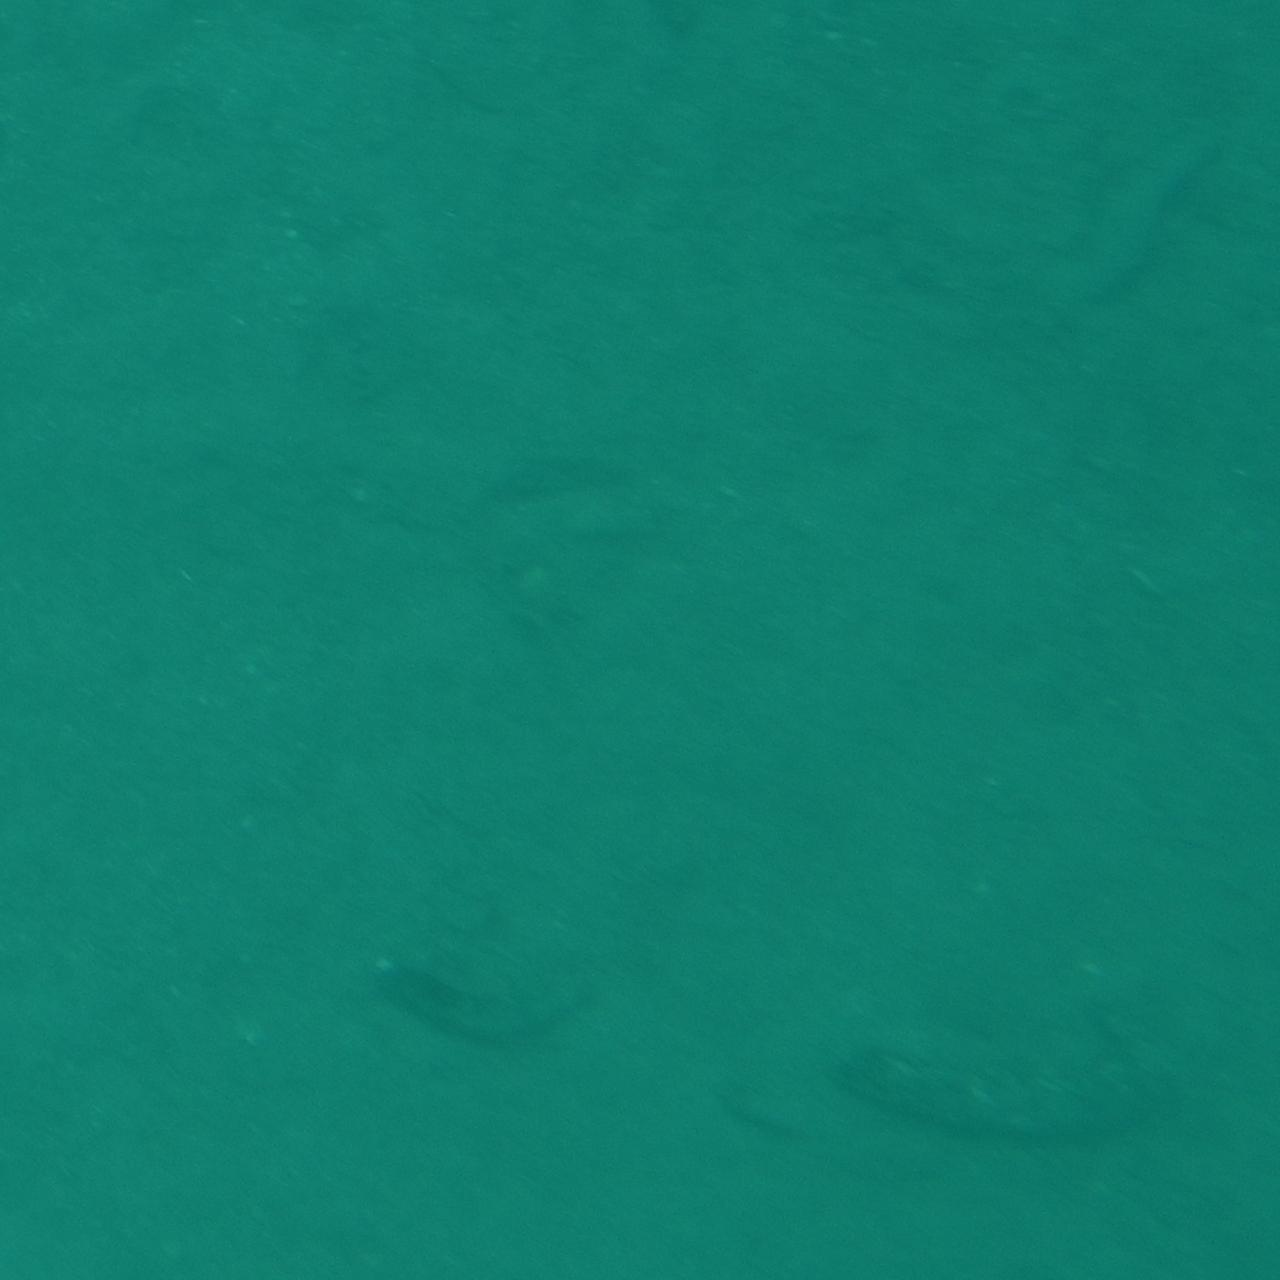Holothuria tubulosa: (779, 1016, 1213, 1155), (333, 930, 640, 1051), (1081, 95, 1241, 297)
